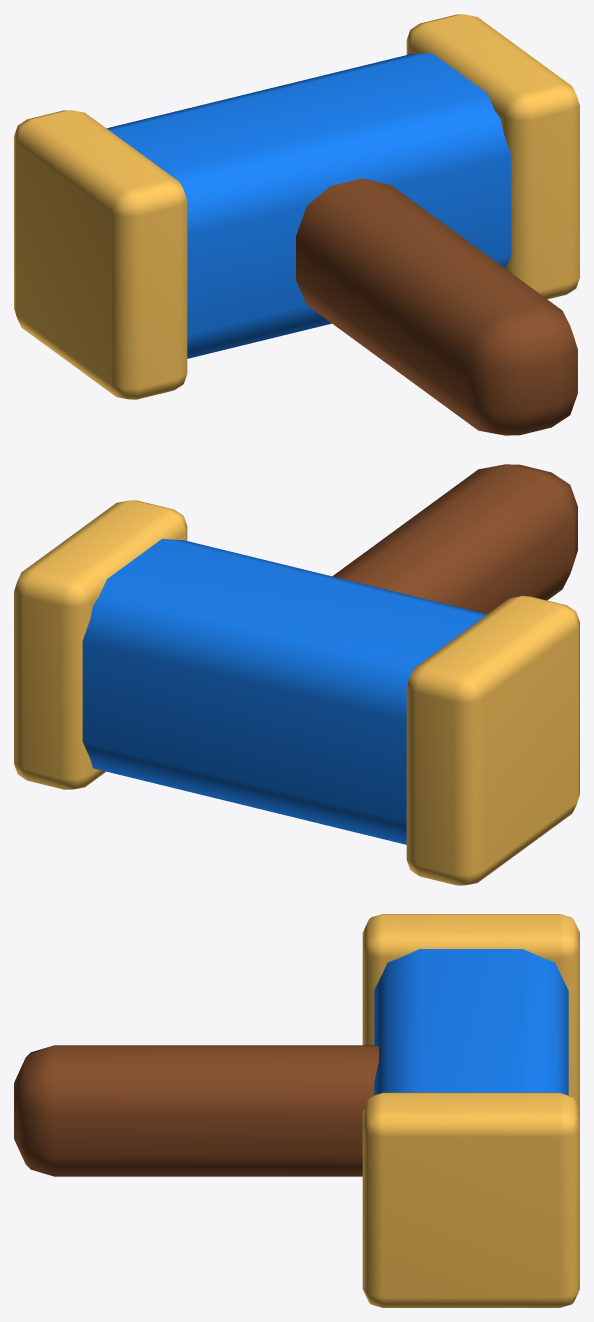
Rendered from Hammer.fbx.
3 views of the same model, one above another, from view 1: azimuth 30°, elevation 25°; view 2: azimuth 150°, elevation 25°; view 3: azimuth 270°, elevation 25° (orthographic). The views are drawn at different scales.
Visible parts, largest first — view 1: Hammer_head, Hammer_grip, Hammer_cap, Hammer_cap.001; view 2: Hammer_head, Hammer_cap, Hammer_grip, Hammer_cap.001; view 3: Hammer_cap.001, Hammer_grip, Hammer_head, Hammer_cap.
Boxes of the visible parts, x1,y1,x2,y2 form: Hammer_head: (107,53,511,358); Hammer_grip: (296,178,577,435); Hammer_cap: (14,110,187,399); Hammer_cap.001: (406,14,579,299); Hammer_head: (82,538,486,844); Hammer_cap: (406,596,579,885); Hammer_grip: (332,464,577,614); Hammer_cap.001: (14,500,187,789); Hammer_cap.001: (362,1092,579,1307); Hammer_grip: (14,1045,378,1176); Hammer_head: (374,949,568,1095); Hammer_cap: (362,914,579,1110).
Size of the model in its own units: 88 by 38 by 99.
